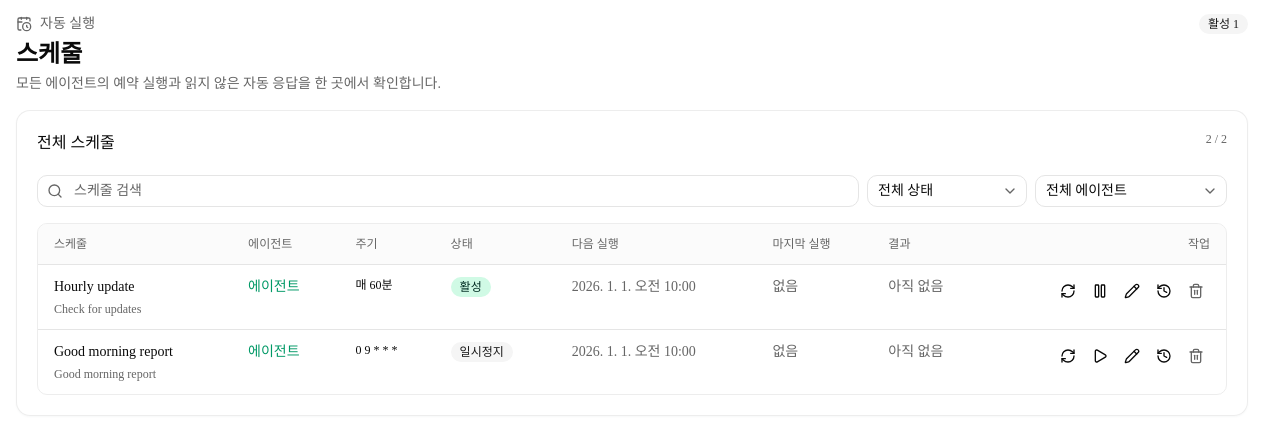
Test: SchedulesPage › filters schedules by search query
The width and height of the screenshot is (1265, 433).
Type "morning" into the field with placeholder "스케줄 검색" at (448, 191), box [37,175,859,207]
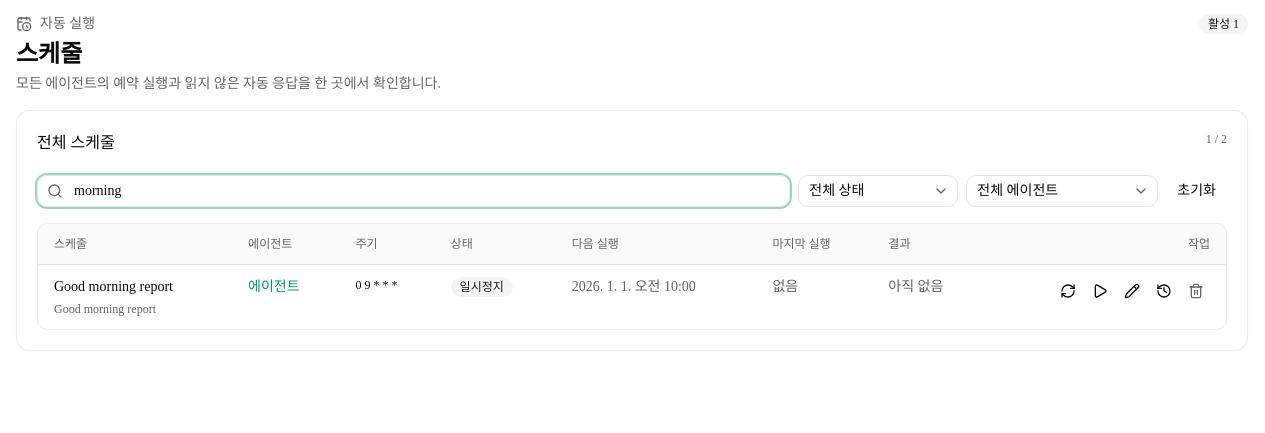
Expected: the 1st text "Good morning report" is shown, [54,279,173,294]
Expected: the text "Hourly update" is gone
